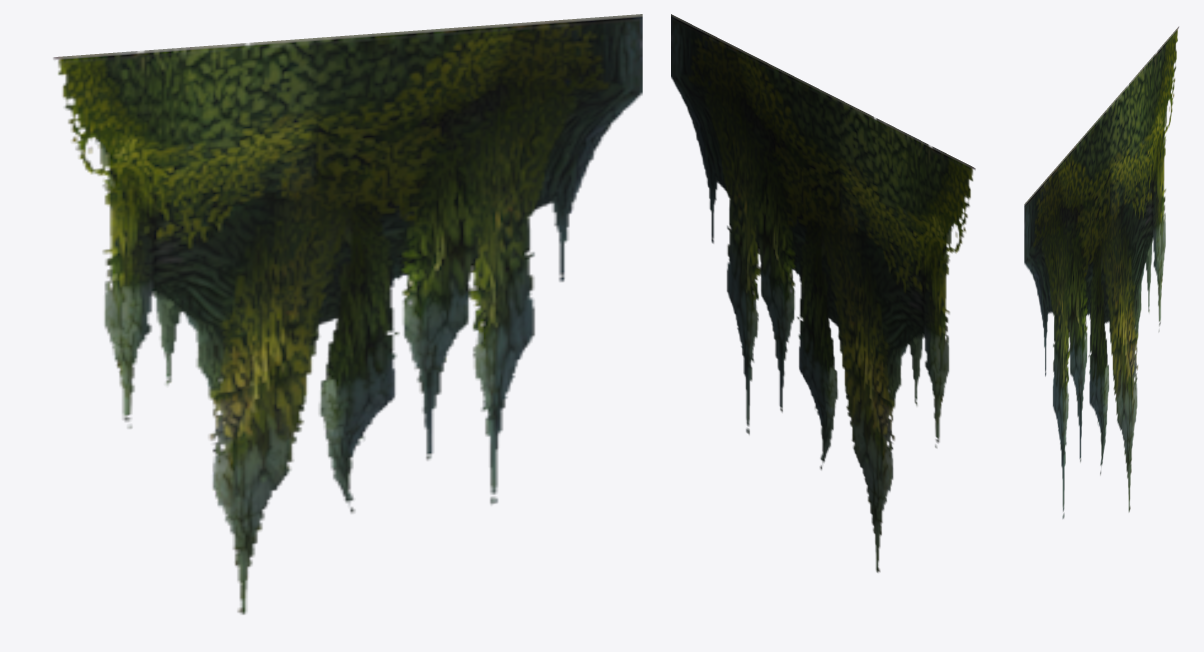
File: H1_Moss_2.gltf
3 views of the same model, side by side, from view 1: azimuth 30°, elevation 25°; view 2: azimuth 150°, elevation 25°; view 3: azimuth 270°, elevation 25° (orthographic). The views are drawn at different scales.
Parts seen in each view (by area): view 1: H1_Moss_2; view 2: H1_Moss_2; view 3: H1_Moss_2.
Part boxes in pixels (x1,y1,x2,y2): H1_Moss_2: (53, 14, 642, 614); H1_Moss_2: (671, 14, 975, 572); H1_Moss_2: (1024, 26, 1178, 518).
Size of the model in its own units: 3.45 by 3.68 by 1.27.
Materials: 1 (1 with a texture image).
